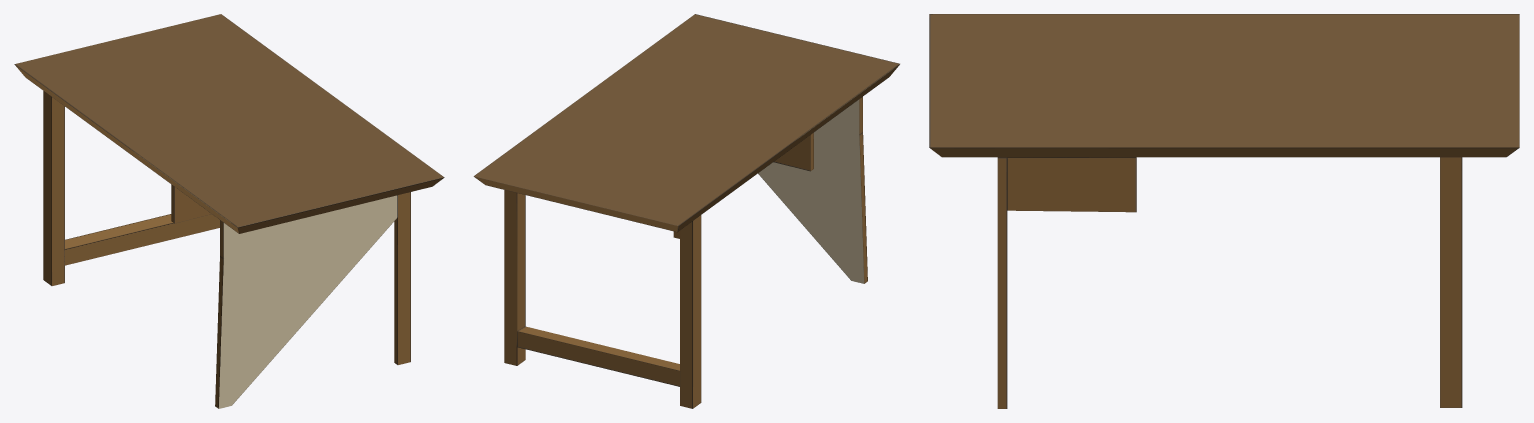
Rendered from Tisch.fbx.
3 renders of one model, left to right at view 1: azimuth 30°, elevation 25°; view 2: azimuth 150°, elevation 25°; view 3: azimuth 270°, elevation 25°, orthographic. The views are drawn at different scales.
Parts seen in each view (by area): view 1: Tisch; view 2: Tisch; view 3: Tisch.
Boxes of the visible parts, bbox=[...] form: Tisch: bbox=[14, 14, 444, 408]; Tisch: bbox=[473, 14, 899, 408]; Tisch: bbox=[929, 14, 1519, 408].
Bounding box in the file's own units: 255 × 237 × 476.
